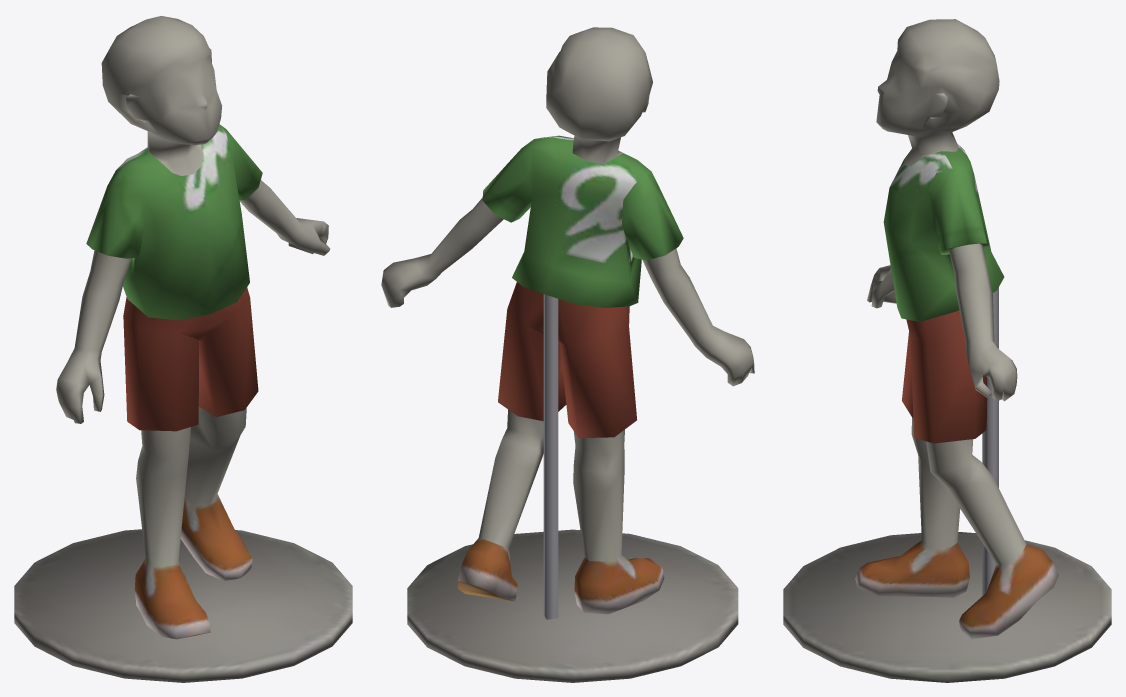
3 renders of one model, left to right at view 1: azimuth 30°, elevation 25°; view 2: azimuth 150°, elevation 25°; view 3: azimuth 270°, elevation 25°, orthographic. The views are drawn at different scales.
Size of the model in its own units: 7.69 by 13.77 by 7.05.
Materials: 2 (2 with a texture image).
